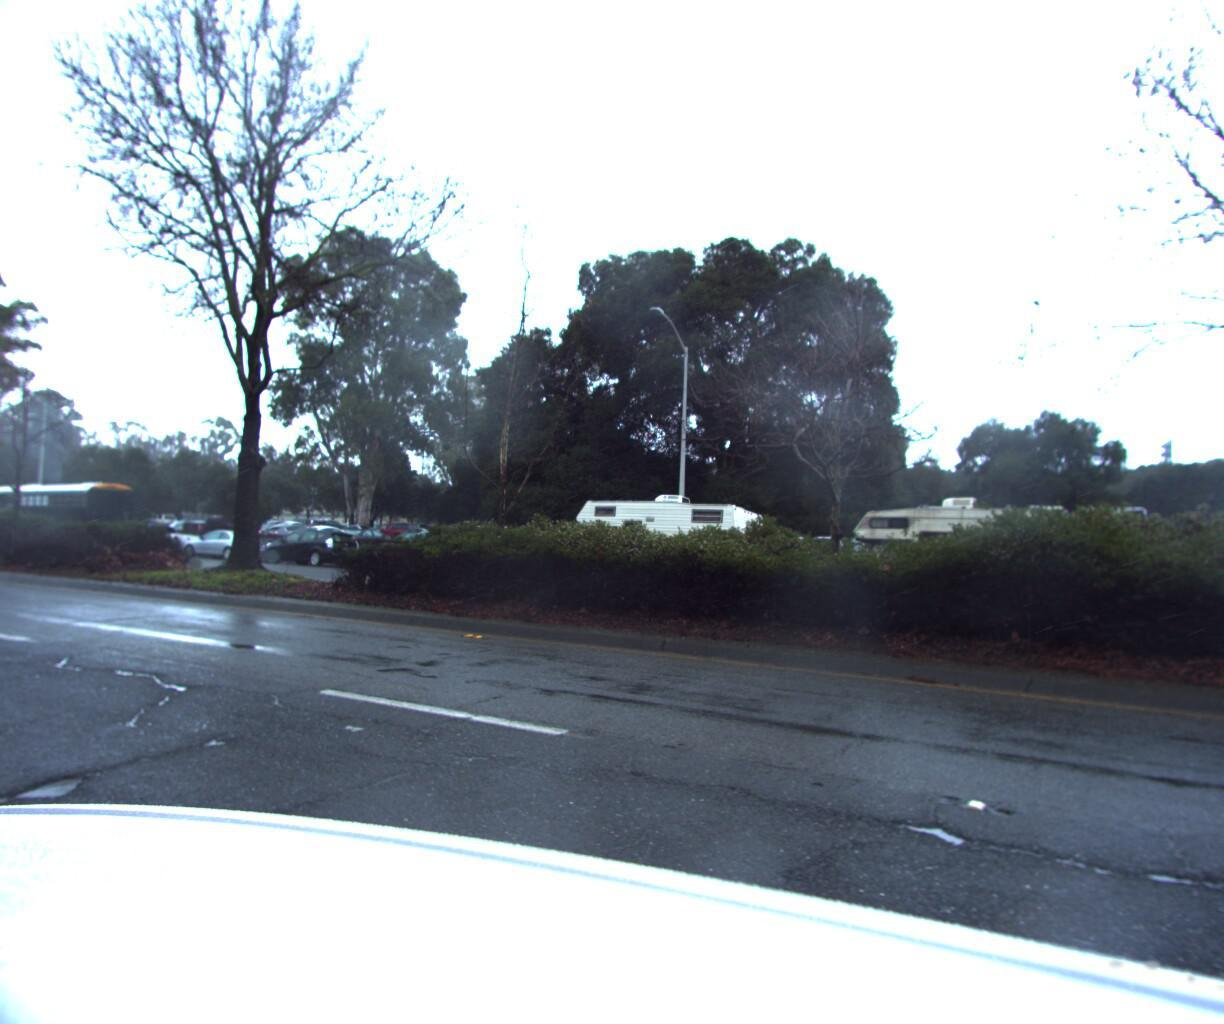bus: (0, 483, 146, 553)
car: (258, 529, 363, 574), (175, 530, 276, 567), (176, 514, 266, 545), (288, 525, 366, 552), (253, 524, 331, 551)
other_vehicle: (831, 490, 1151, 623), (563, 490, 770, 597)
